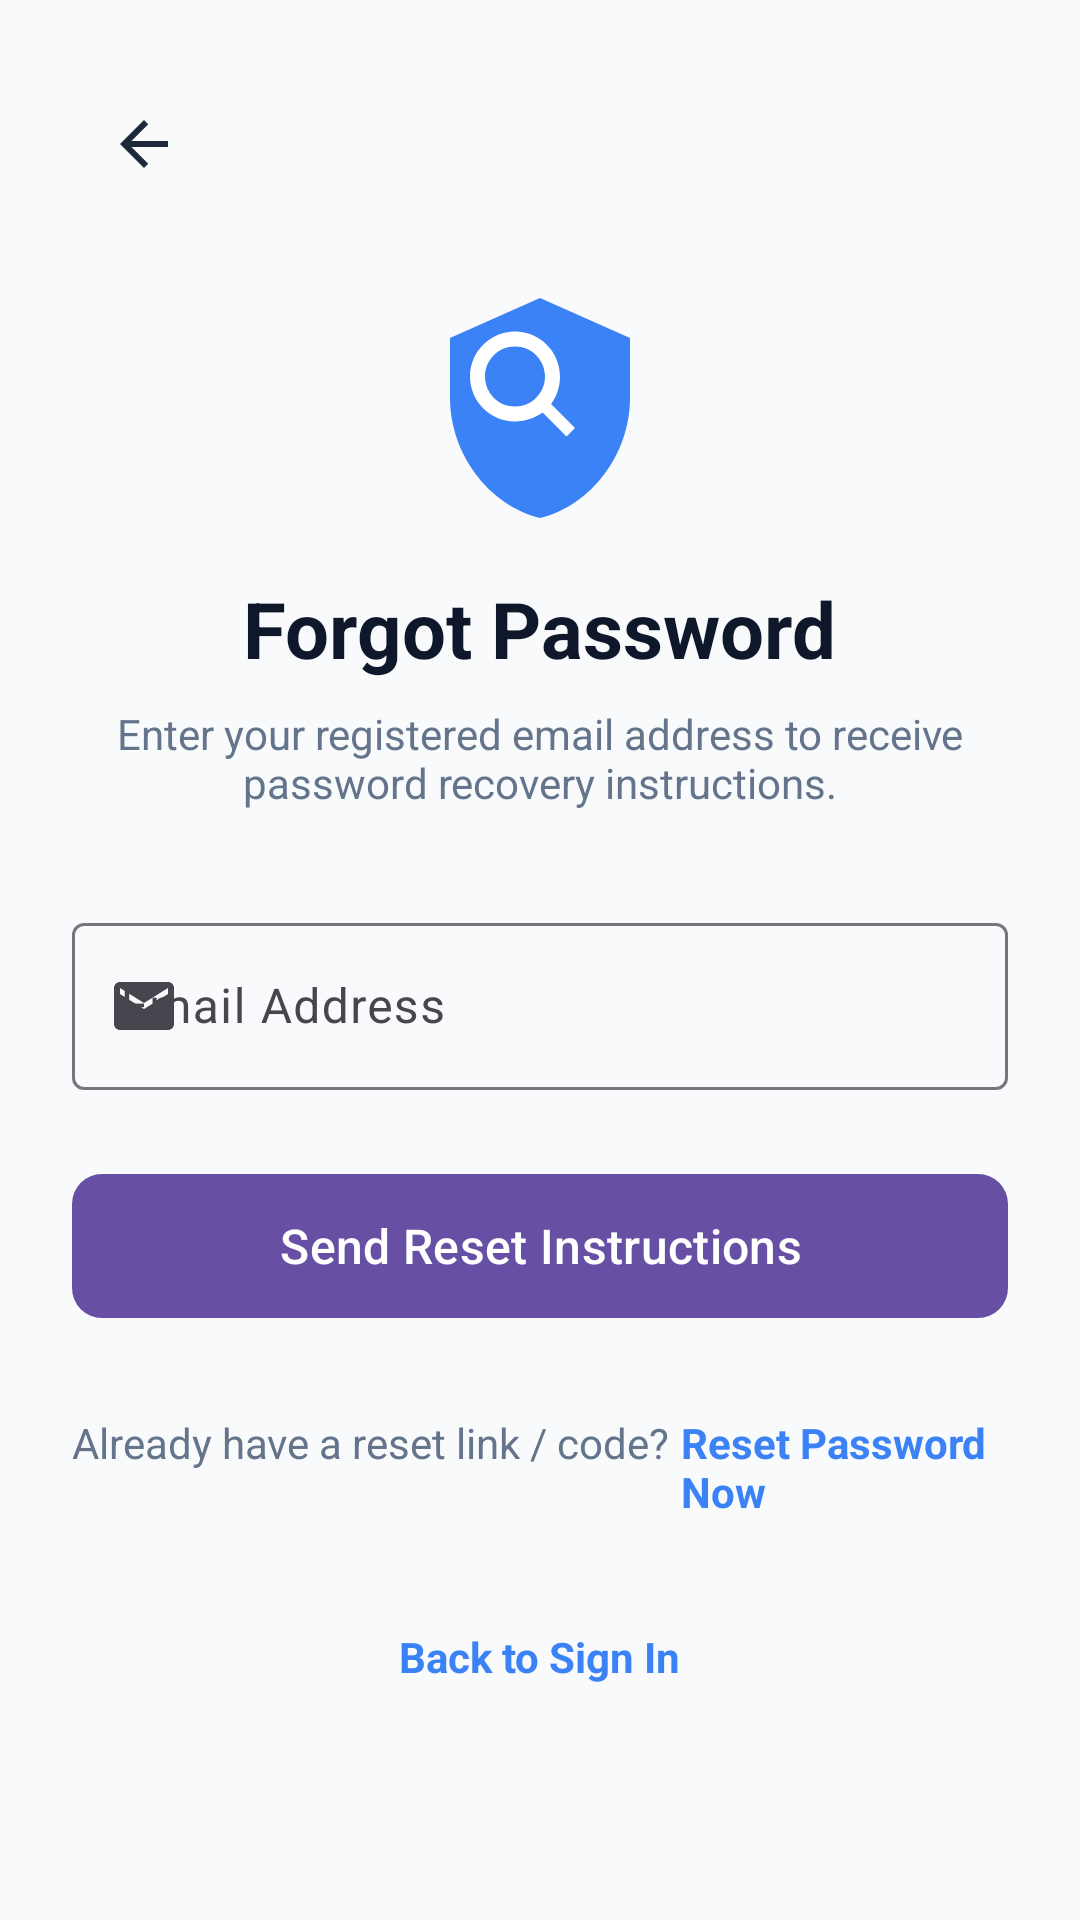

Icon bounding boxes for this 1080px x 1920px phone screenshot, format (x1, y1, x2, y2):
Back to Sign In: (120, 120, 168, 168)
